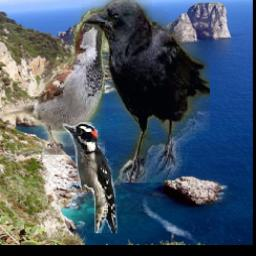Crow: (82, 0, 211, 184)
Sparrow: (2, 8, 105, 155)
Woodpecker: (63, 122, 118, 233)
